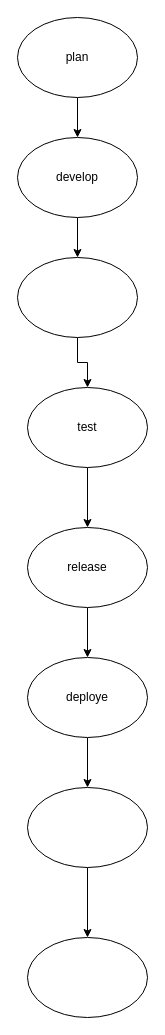
Image size: 165x1035. Some labels were removed from this diagram. The box of each missing label's shape, as (x1, y1, x2, y2) in pixels:
build: (16, 256, 138, 338)
operate: (26, 786, 148, 868)
